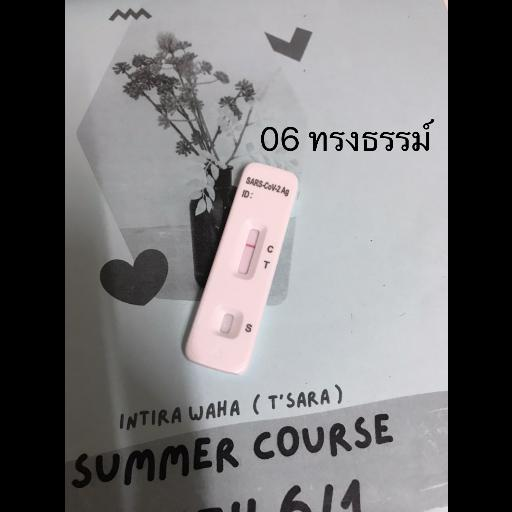Neg: (180, 159, 302, 376)
